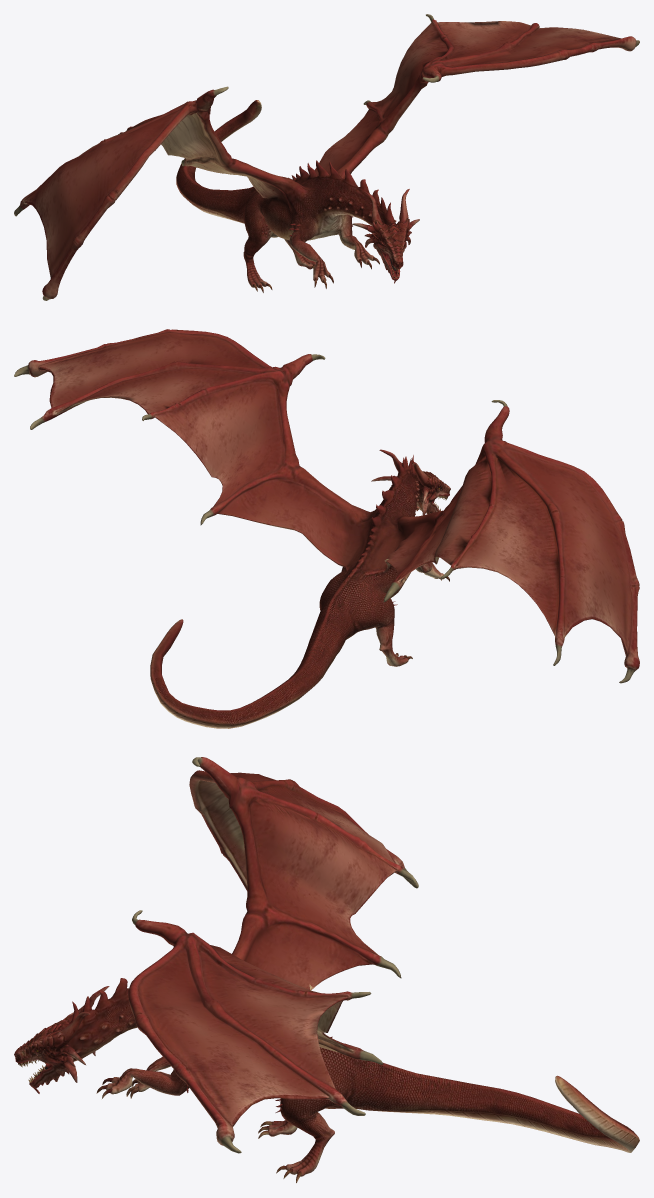
3 views of the same model, one above another, from view 1: azimuth 30°, elevation 25°; view 2: azimuth 150°, elevation 25°; view 3: azimuth 270°, elevation 25° (orthographic). The views are drawn at different scales.
Visible parts, largest first — view 1: dragon_medival.2; view 2: dragon_medival.2; view 3: dragon_medival.2.
Boxes of the visible parts, x1,y1,x2,y2 form: dragon_medival.2: (14, 14, 639, 300); dragon_medival.2: (14, 329, 639, 728); dragon_medival.2: (14, 757, 639, 1182).
Size of the model in its own units: 7.89 by 3.06 by 5.23.
2 materials, 2 textured.
